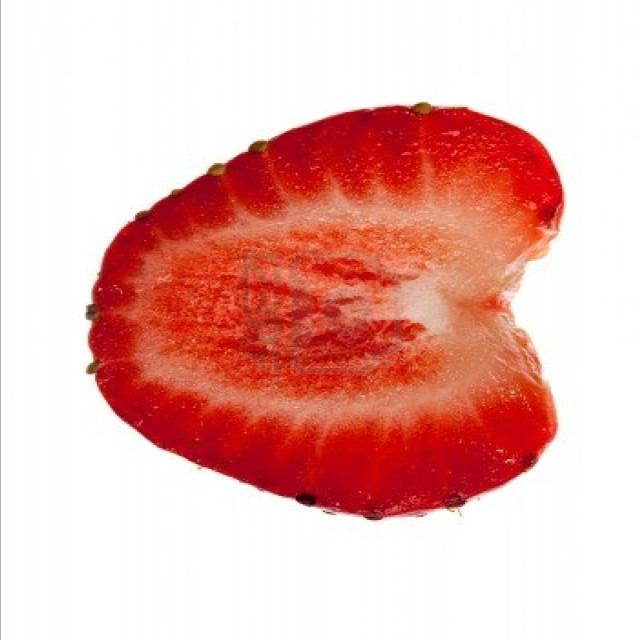strawberry: (80, 84, 574, 514)
